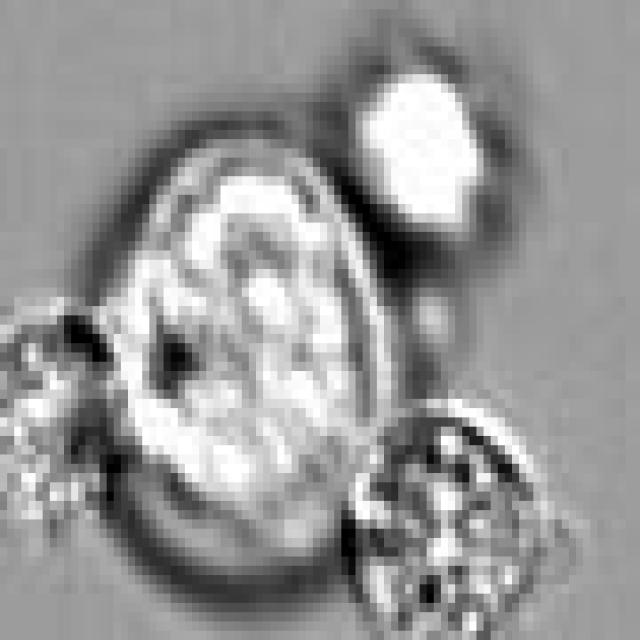Cancer Cell: (100, 130, 391, 594)
WBC: (348, 408, 548, 640), (341, 56, 498, 241), (7, 306, 128, 538)
